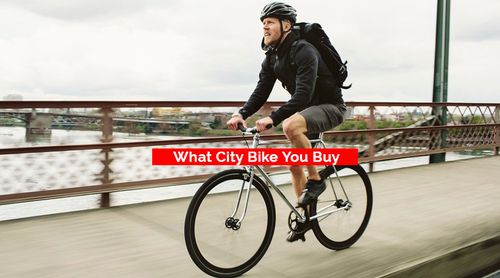bikerider: (186, 3, 390, 271)
